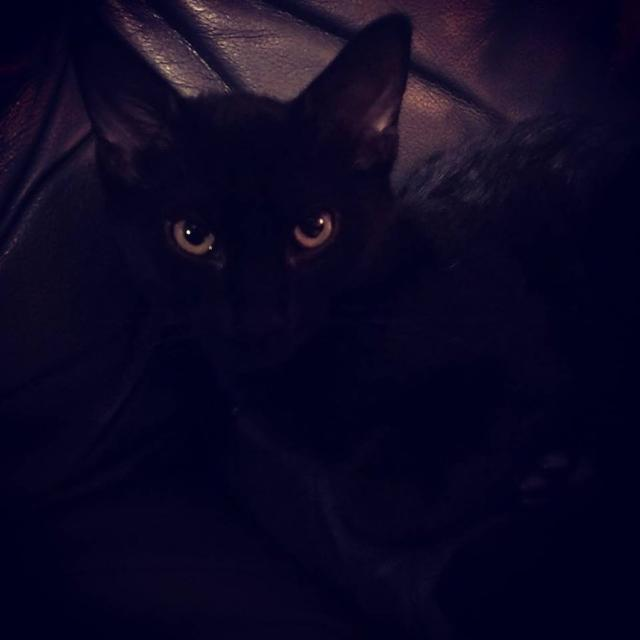Cat: (89, 10, 640, 626)
